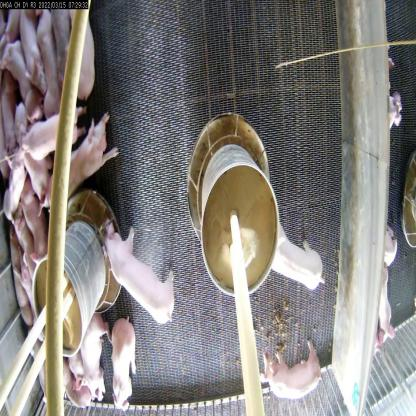Pig: (98, 223, 180, 331), (94, 301, 149, 416), (45, 109, 114, 200), (254, 336, 321, 415), (58, 0, 99, 101), (84, 301, 118, 412), (16, 172, 52, 266), (38, 1, 64, 111), (14, 213, 44, 307), (17, 0, 43, 107), (21, 114, 82, 158), (51, 1, 76, 79), (0, 41, 28, 99)
